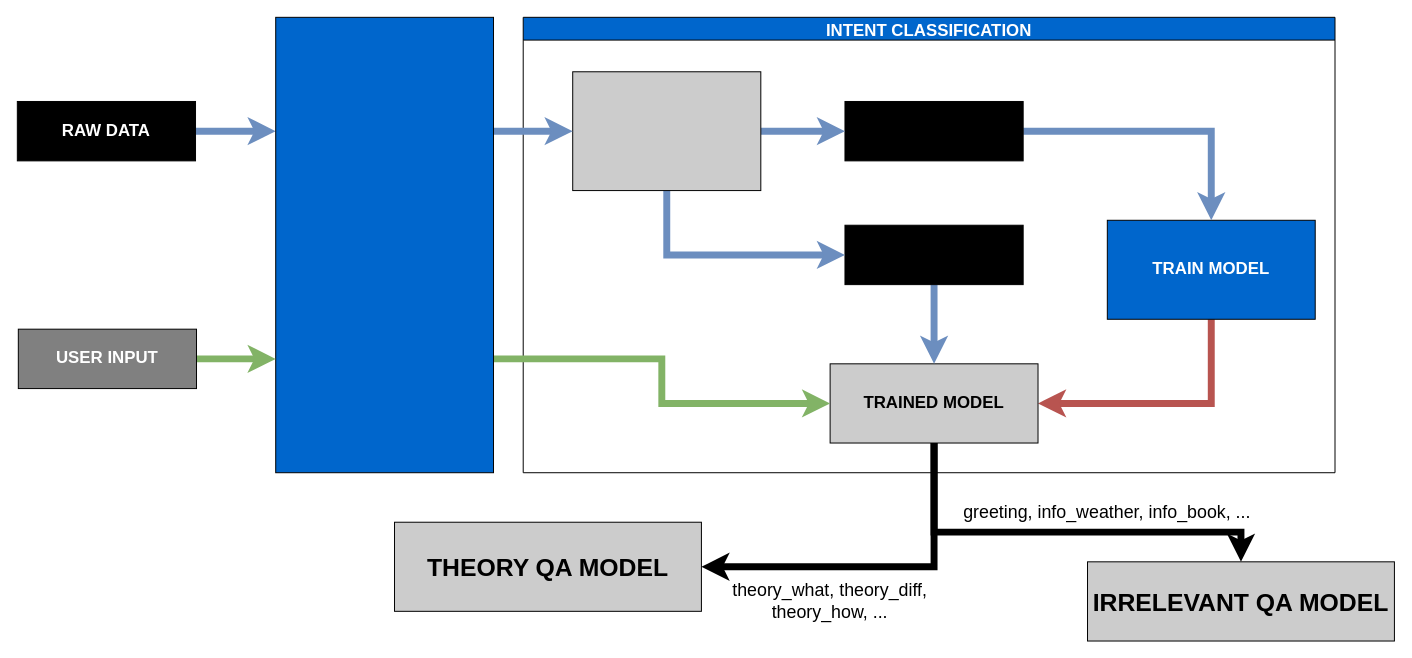
The diagram is 1412 pixels wide and 658 high, and some of its shapes have lost their labels. The shapes that lost their labels are listed below. From the top down, each one's centre as x and y in pixels, then its label:
At pixel 666 131: "SPLITTER".
At pixel 933 130: "TRAIN DATA".
At pixel 384 244: "PREPROCESSING & FEATURE EXTRACTION".
At pixel 933 254: "VALID DATA".
